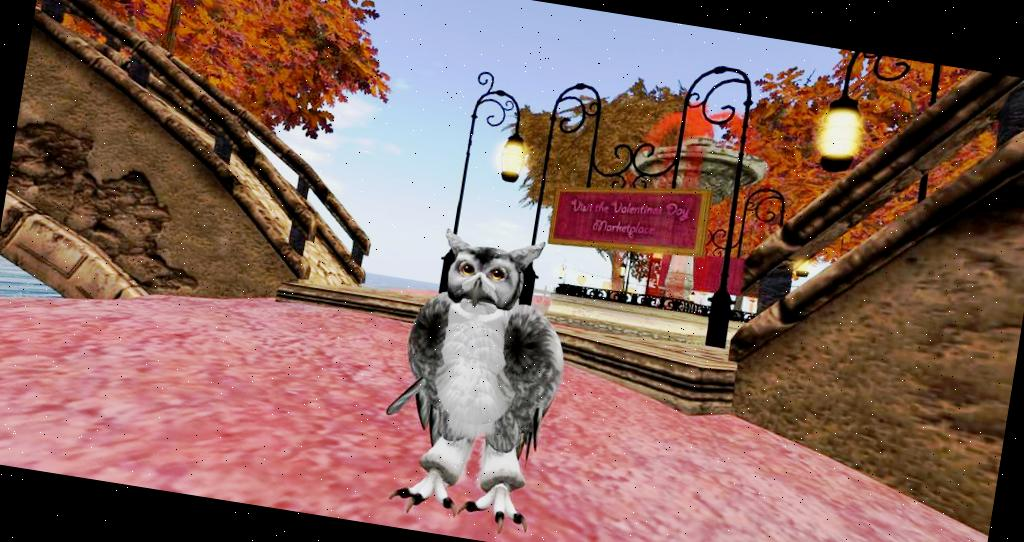Owl: (364, 218, 582, 542)
